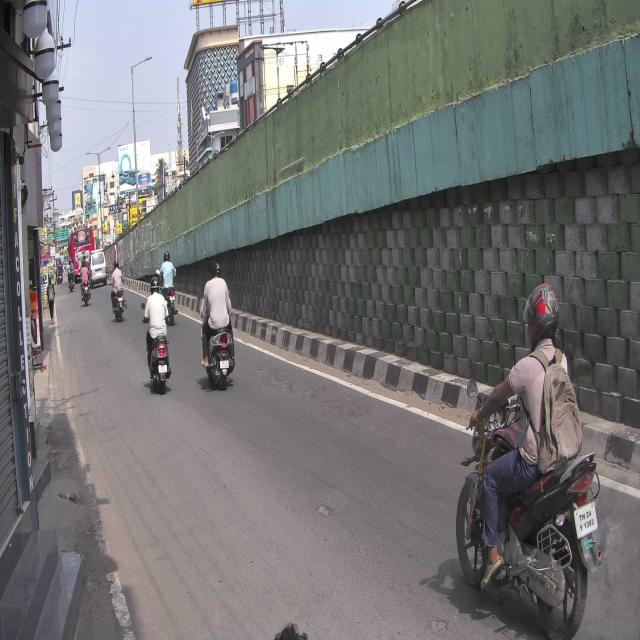single_rider: (456, 284, 601, 640)
